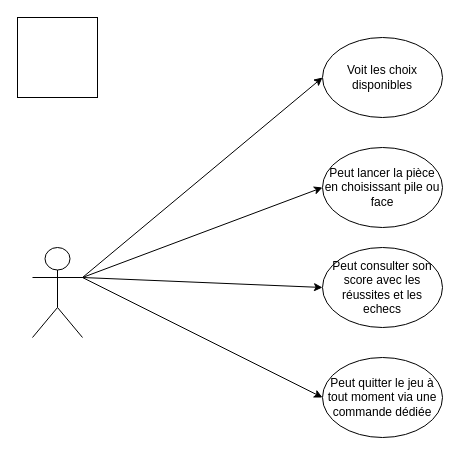
Some shapes in this 460 by 455 pixel diagram are drawn without their labels. Each missing label, with the centre of its shape:
"use case" goes at [57,57].
"utilisateur" goes at [57,292].
